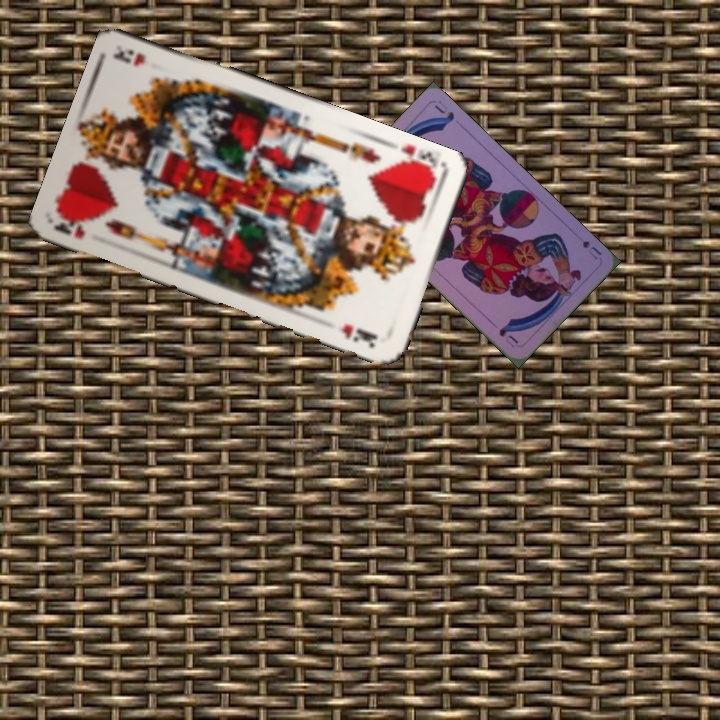HK: (390, 140, 448, 181), (51, 210, 91, 242)
SU: (577, 236, 604, 262)
